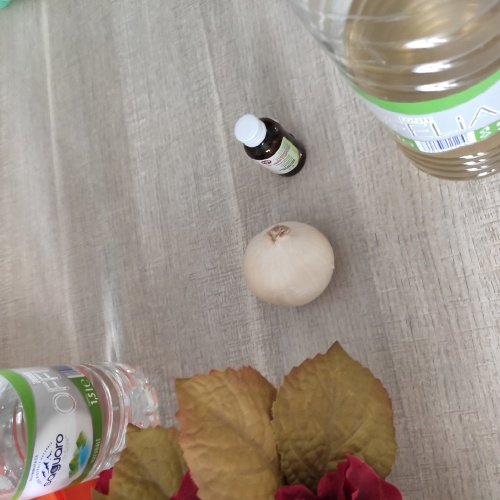cipolla: (240, 214, 342, 317)
